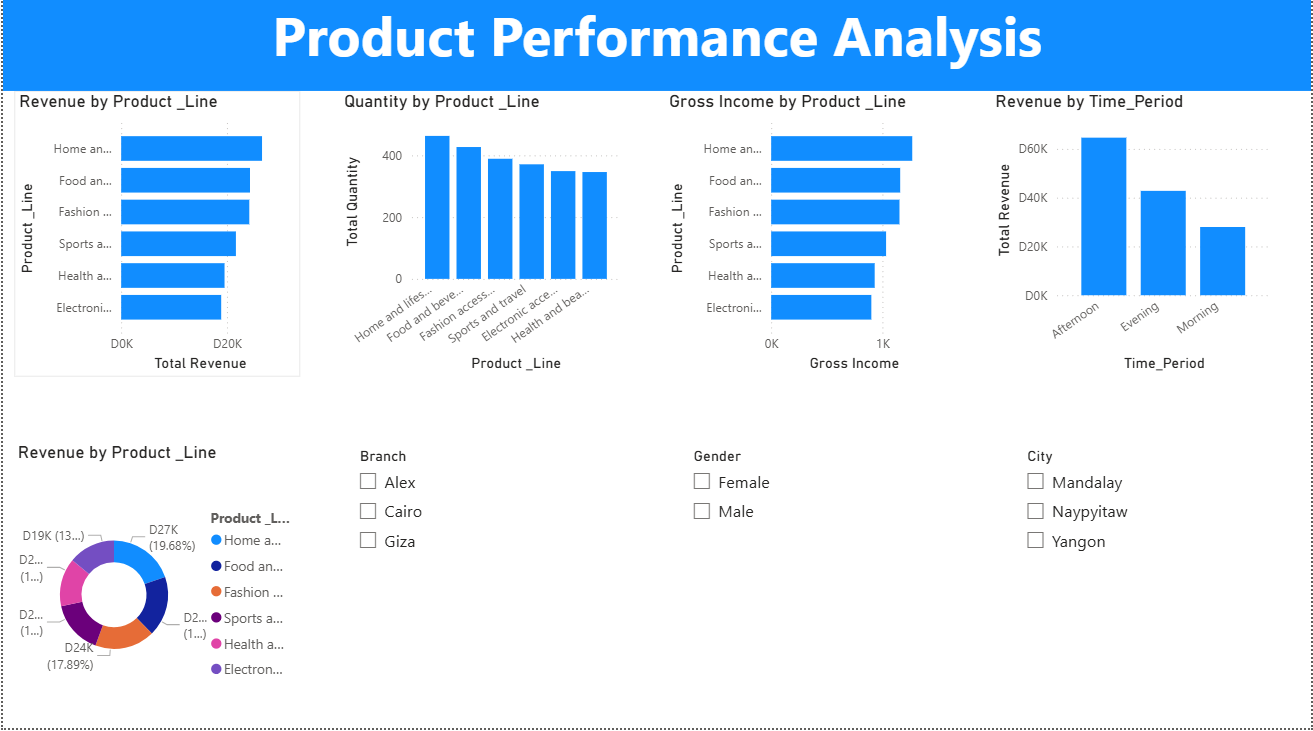

Layout of this report page (visuals, bound fields, positions):
{"tool":"powerbi","page":{"name":"Product & Sales Analysis","canvas":[1280,720],"ordinal":1},"visuals":[{"type":"clusteredBarChart","title":"Revenue by Product _Line","fields":{"Y":["SuperMarket Analysis.Total Revenue"],"Category":["SuperMarket Analysis.Product _Line"]},"box":[10.8,97.1,280,280],"z":0},{"type":"clusteredColumnChart","title":" Quantity by Product _Line","fields":{"Y":["SuperMarket Analysis.Total Quantity"],"Category":["SuperMarket Analysis.Product _Line"]},"box":[329.1,97.1,280,280],"z":1000},{"type":"clusteredBarChart","fields":{"Category":["SuperMarket Analysis.Product _Line"],"Y":["SuperMarket Analysis.Gross Income"]},"box":[647.4,97.1,280,280],"z":2000},{"type":"clusteredColumnChart","title":"Revenue by Time_Period","fields":{"Category":["SuperMarket Analysis.Time_Period"],"Y":["SuperMarket Analysis.Total Revenue"]},"box":[965.8,97.1,280,280],"z":3000},{"type":"donutChart","title":" Revenue by Product _Line","fields":{"Category":["SuperMarket Analysis.Product _Line"],"Y":["SuperMarket Analysis.Total Revenue"]},"box":[9.8,440,280,280],"z":4000},{"type":"slicer","fields":{"Values":["SuperMarket Analysis.Branch"]},"box":[336.3,440.2,280,150.4],"z":5000},{"type":"slicer","fields":{"Values":["SuperMarket Analysis.City"]},"box":[989.3,440.2,280,150.4],"z":6000},{"type":"slicer","fields":{"Values":["SuperMarket Analysis.Gender"]},"box":[662.8,440.2,280,150.4],"z":7000},{"type":"textbox","box":[0,0,1280.3,96.6],"z":8000}]}

Visuals, with their boxes in screenshot pixels (x1, y1, x2, y2), scaled from the page's 1280x720 canvas onto the 1313x731 screenshot:
"Revenue by Product _Line" clusteredBarChart: <region>11, 99, 298, 383</region>
" Quantity by Product _Line" clusteredColumnChart: <region>338, 99, 625, 383</region>
clusteredBarChart - SuperMarket Analysis.Product _Line x SuperMarket Analysis.Gross Income: <region>664, 99, 951, 383</region>
"Revenue by Time_Period" clusteredColumnChart: <region>991, 99, 1278, 383</region>
" Revenue by Product _Line" donutChart: <region>10, 447, 297, 730</region>
slicer - SuperMarket Analysis.Branch: <region>345, 447, 632, 600</region>
slicer - SuperMarket Analysis.City: <region>1015, 447, 1302, 600</region>
slicer - SuperMarket Analysis.Gender: <region>680, 447, 967, 600</region>
textbox: <region>0, 0, 1312, 98</region>
